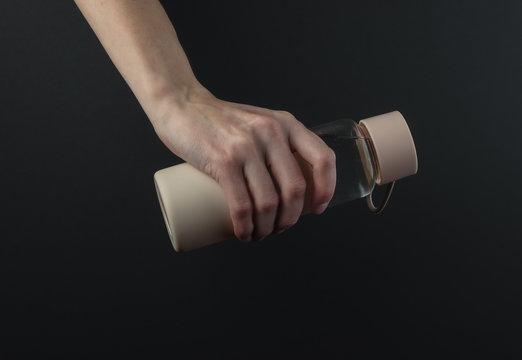gym bottle: (152, 108, 419, 255)
